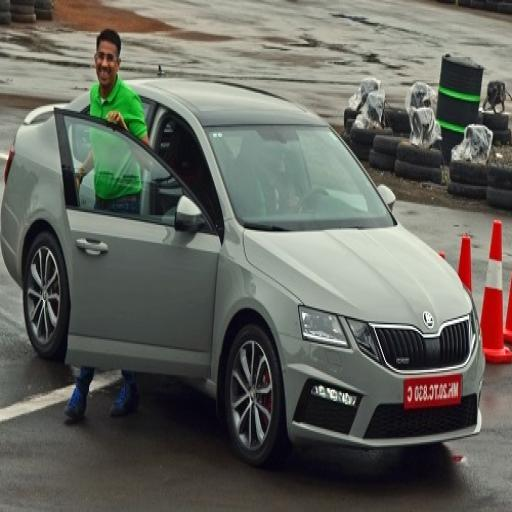License: (404, 372, 465, 406)
